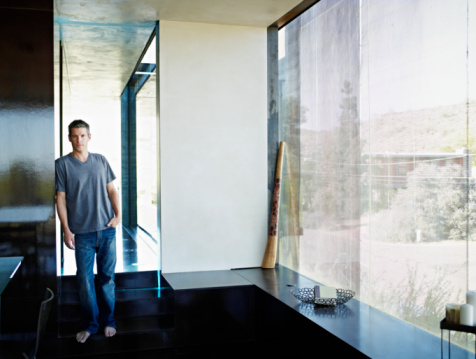em pe: (43, 112, 117, 341)
